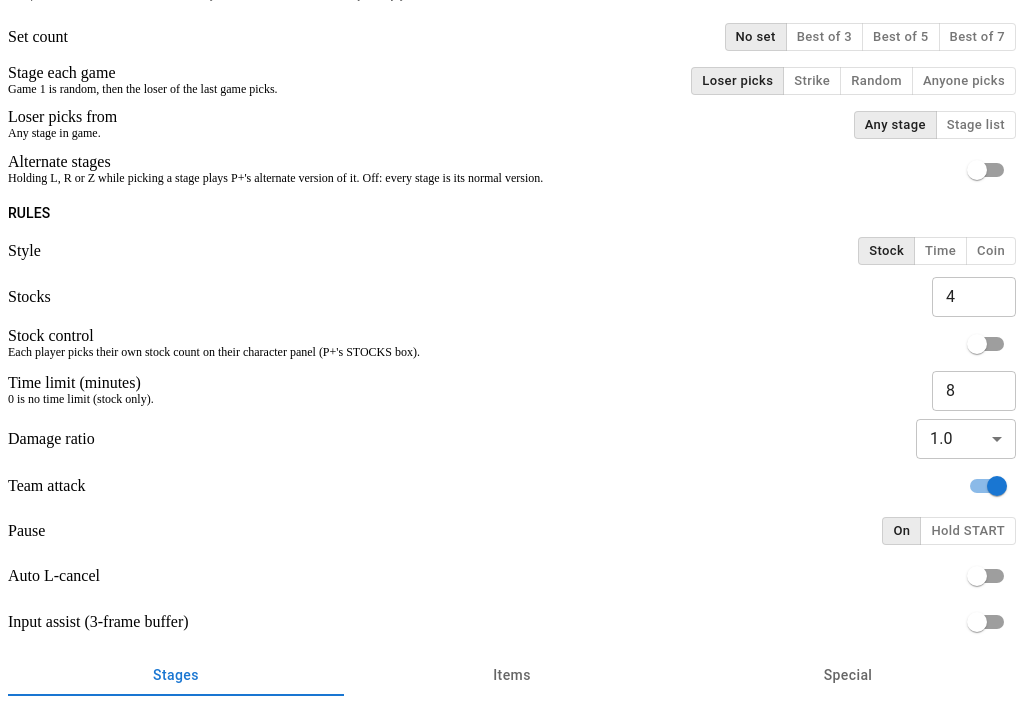
the ruleset editor's tabs › shows the stages first, then items and special as tabs
Click the tab with test id "ruleset-tab-items": (512, 676) [344,655,680,696]
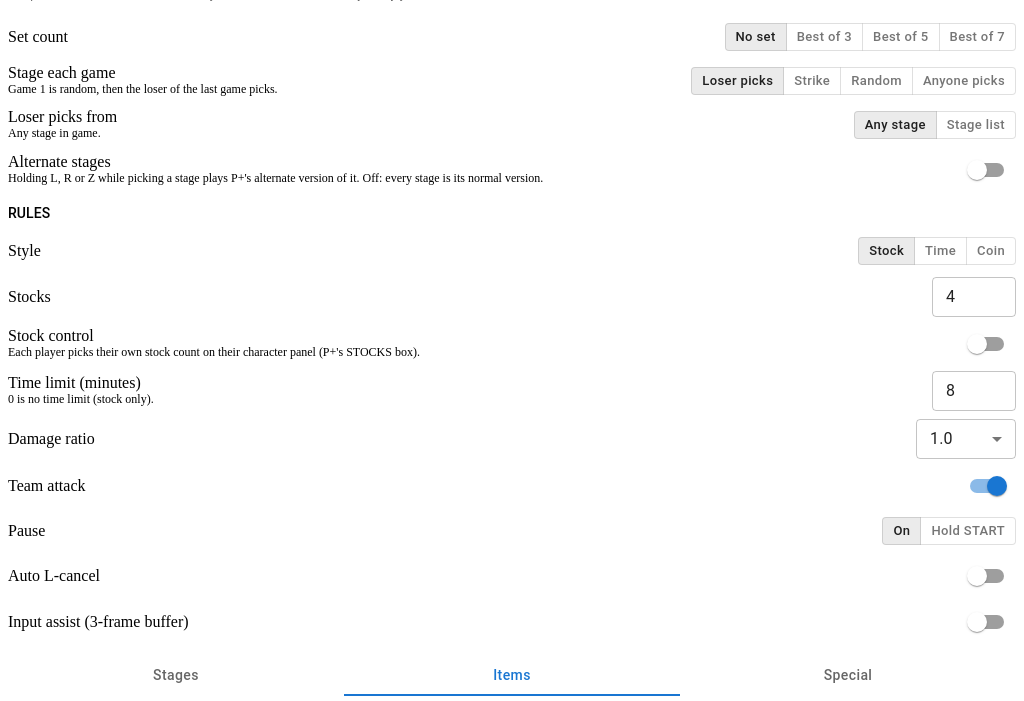
Click the tab with test id "ruleset-tab-special": (848, 676) [680,655,1016,696]
(page scrolled)
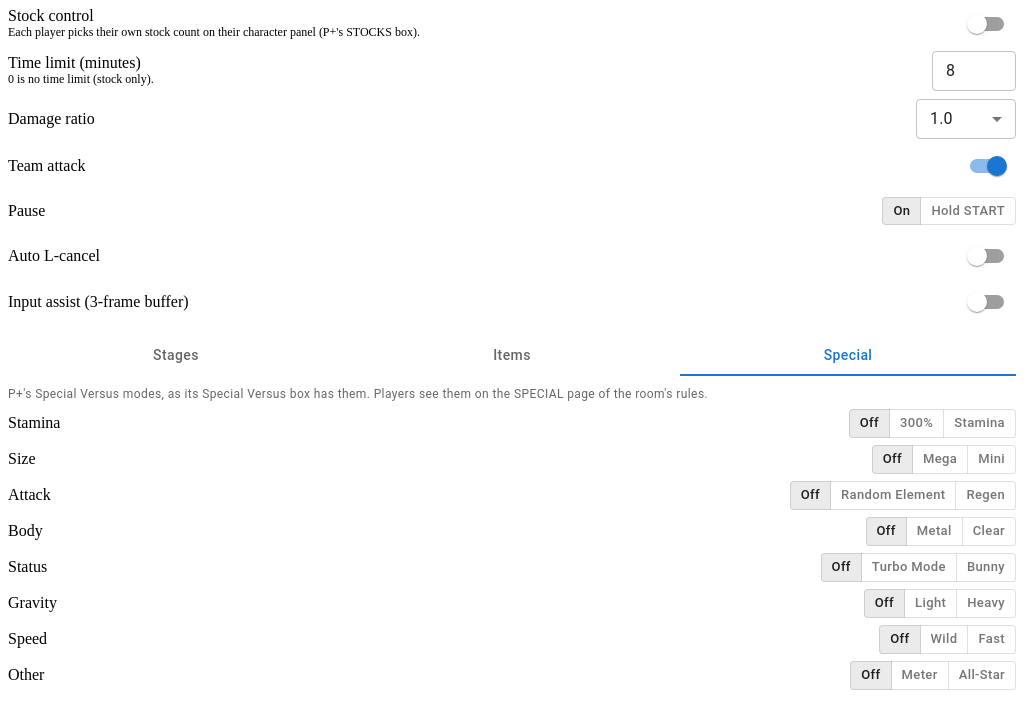
expect the element with test id "special-section" is shown: met, box [8,384,1016,693]
